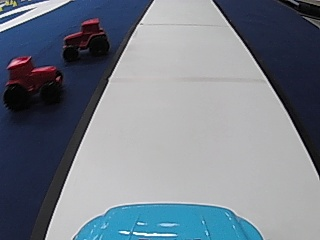tractor: (2, 53, 62, 110), (60, 16, 109, 62)
